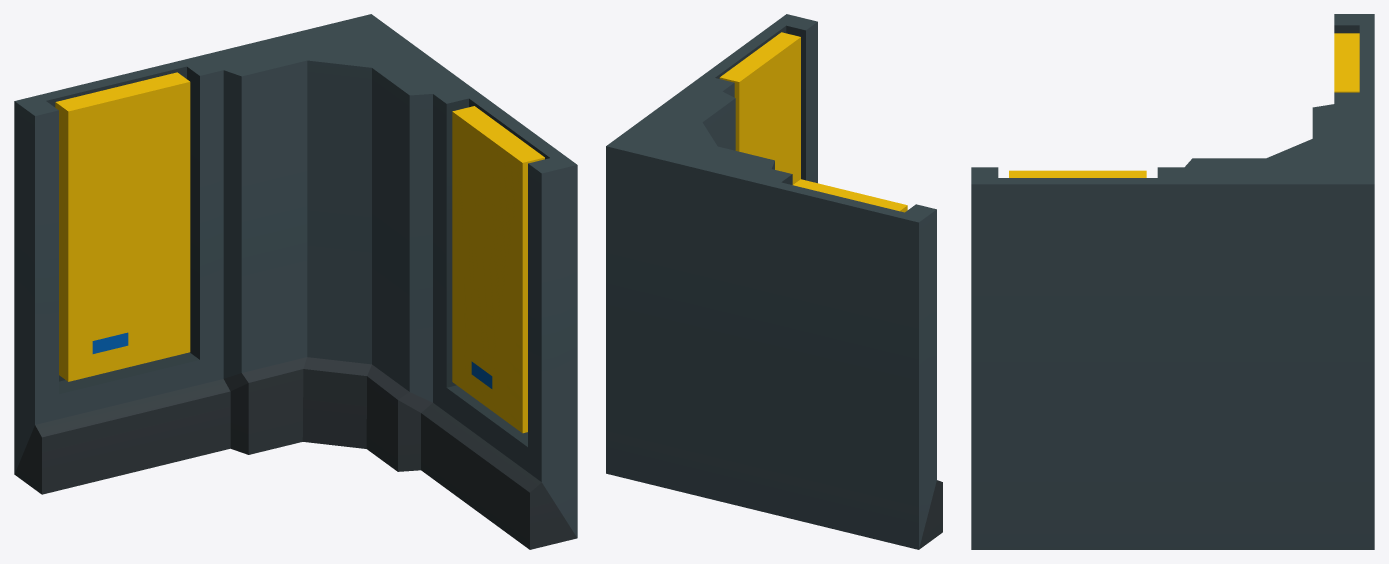
The model's file is Wall_type_C_047.fbx.
The picture shows the model from 3 angles, left to right: view 1: azimuth 30°, elevation 25°; view 2: azimuth 150°, elevation 25°; view 3: azimuth 270°, elevation 25°; orthographic projection. The views are drawn at different scales.
Visible parts, largest first — view 1: Wall_type_C_047; view 2: Wall_type_C_047; view 3: Wall_type_C_047.
Boxes of the visible parts, left/top/right/bottom form: Wall_type_C_047: left=14, top=14, right=577, bottom=549; Wall_type_C_047: left=606, top=14, right=942, bottom=549; Wall_type_C_047: left=971, top=14, right=1374, bottom=549.
Bounding box in the file's own units: 150 × 150 × 150.
